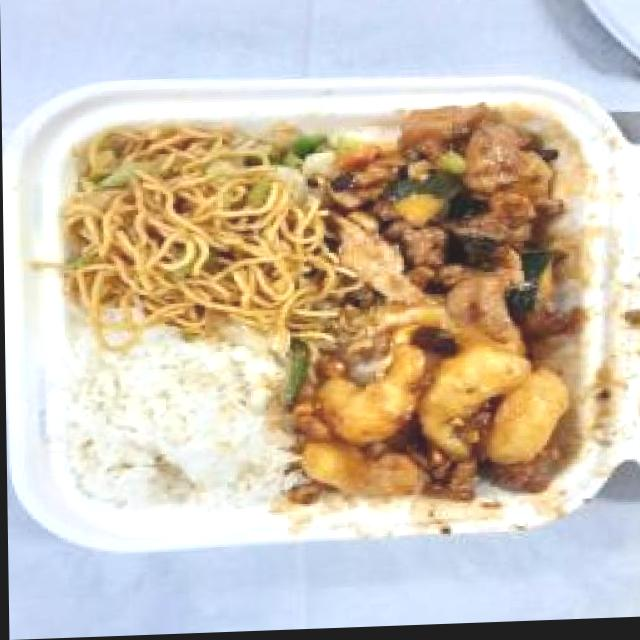Chow Mein: (49, 115, 337, 344)
Honey Walnut Shrimp: (277, 301, 584, 510)
Kung Pao Chicken: (329, 95, 582, 320)
White Steamed Rice: (44, 318, 301, 524)
